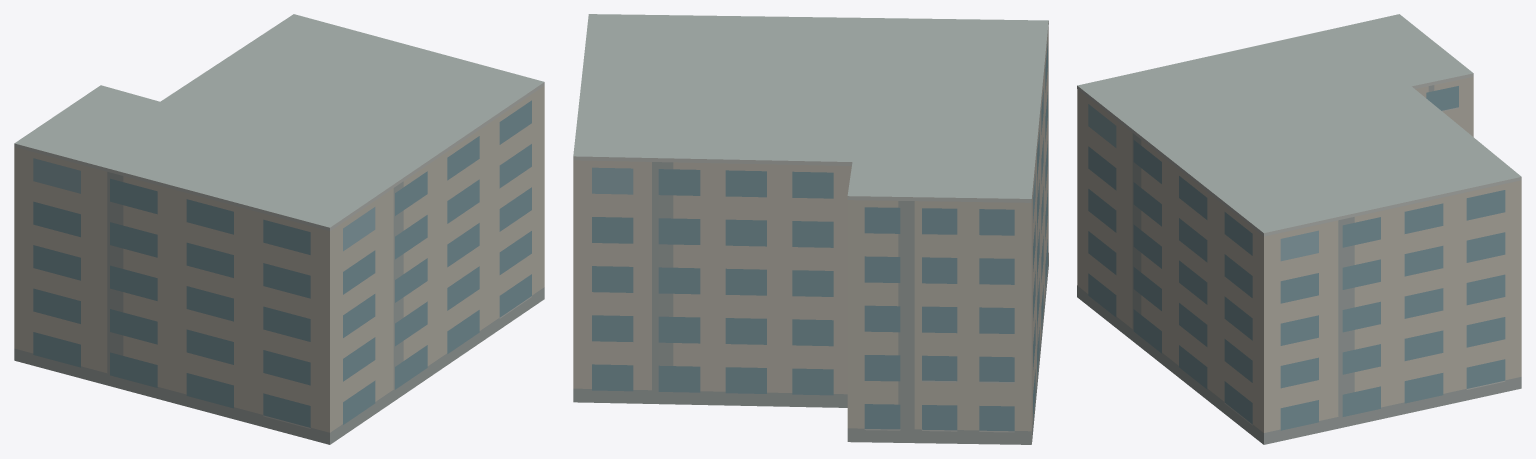
The model's file is survey-upis-32721950.glb.
3 renders of one model, left to right at view 1: azimuth 30°, elevation 25°; view 2: azimuth 150°, elevation 25°; view 3: azimuth 270°, elevation 25°, orthographic. The views are drawn at different scales.
Parts seen in each view (by area): view 1: survey-upis-32721950.tmp; view 2: survey-upis-32721950.tmp; view 3: survey-upis-32721950.tmp.
Boxes of the visible parts, x1=… form: survey-upis-32721950.tmp: x1=14, y1=14, x2=544, y2=444; survey-upis-32721950.tmp: x1=573, y1=14, x2=1048, y2=444; survey-upis-32721950.tmp: x1=1077, y1=14, x2=1521, y2=444.
Size of the model in its own units: 33.87 by 15.25 by 29.03.
